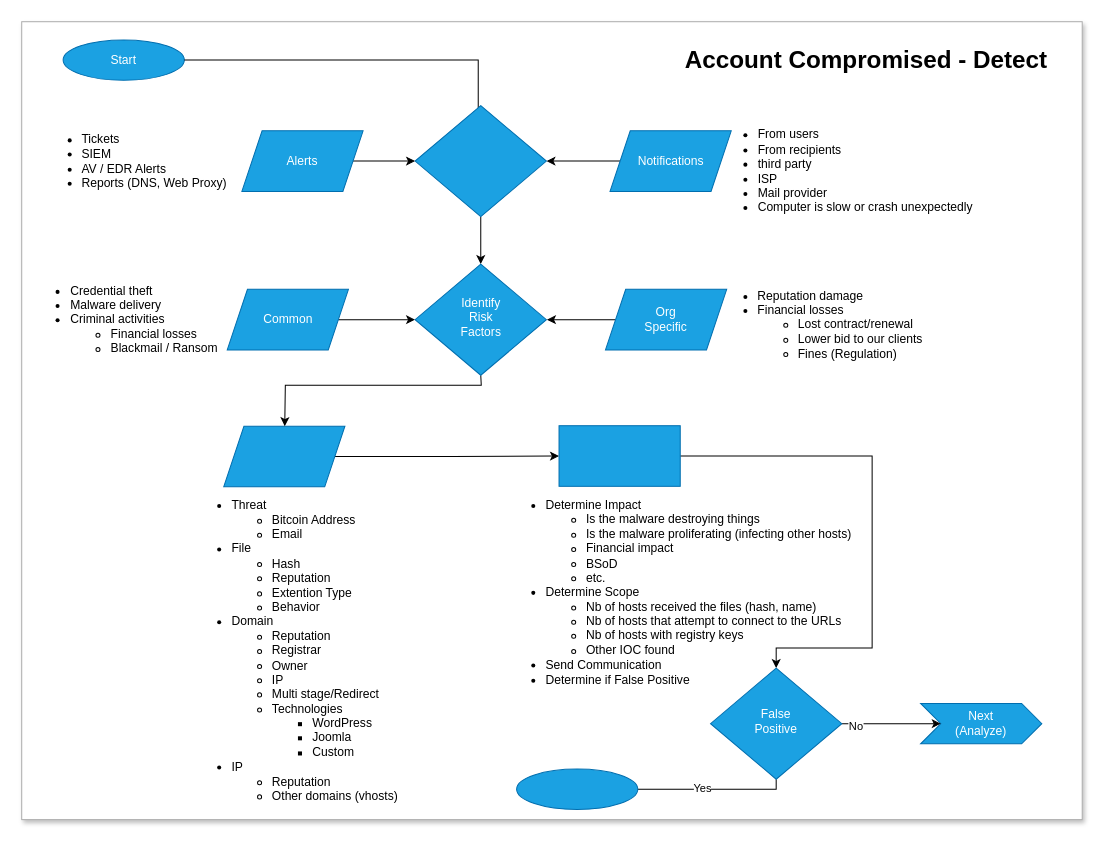
The diagram is 1106 pixels wide and 847 high, and some of its shapes have lost their labels. Here are the shapes that lost their labels. From the top down, the centre of each, then its label:
the point at 480,161: Identify Threat Indicators
the point at 284,456: Data Collection
the point at 619,455: Triage
the point at 577,789: Stop
